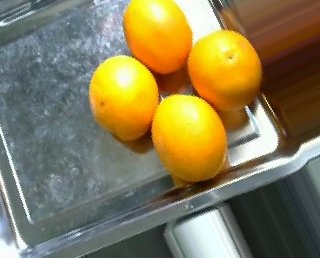Orange: (151, 93, 229, 182), (187, 29, 263, 111), (88, 55, 160, 138), (123, 1, 195, 75)
